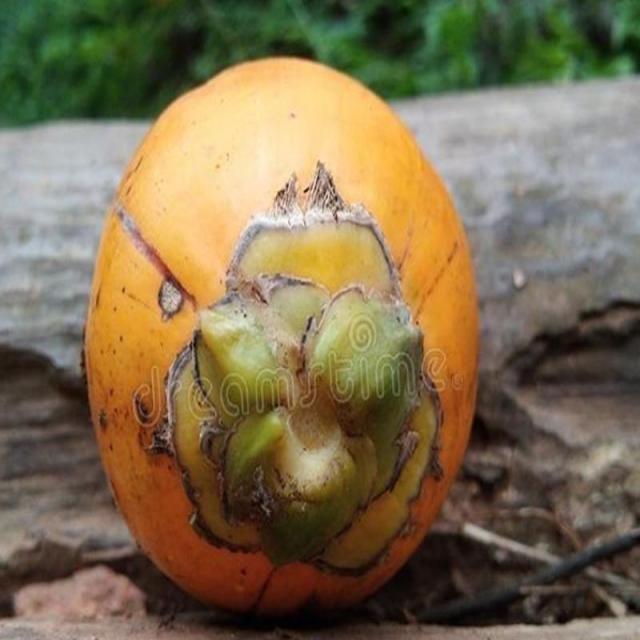good: (82, 59, 481, 624)
